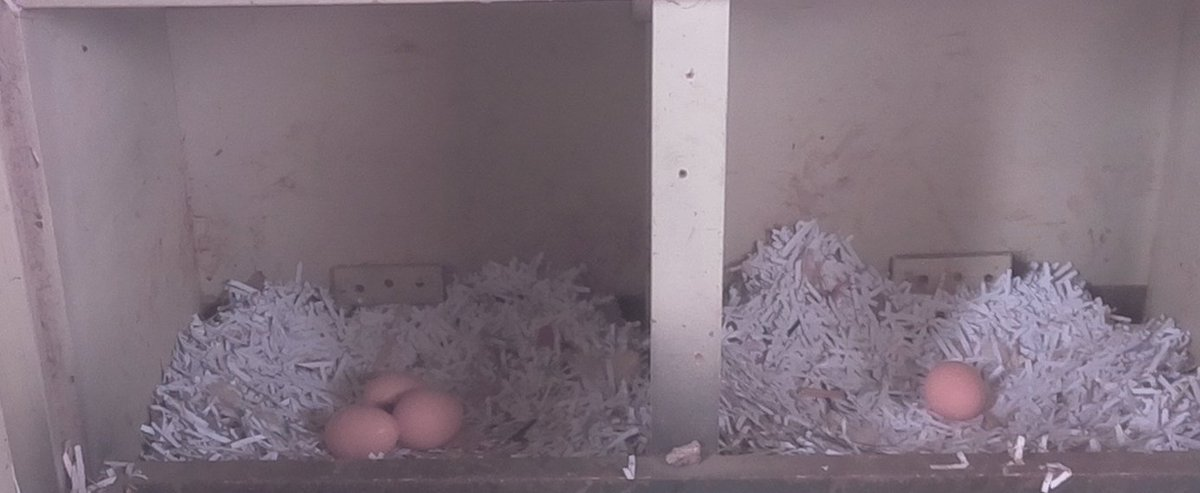egg: (917, 356, 995, 429), (394, 385, 470, 452), (320, 402, 402, 462), (352, 366, 429, 407)
